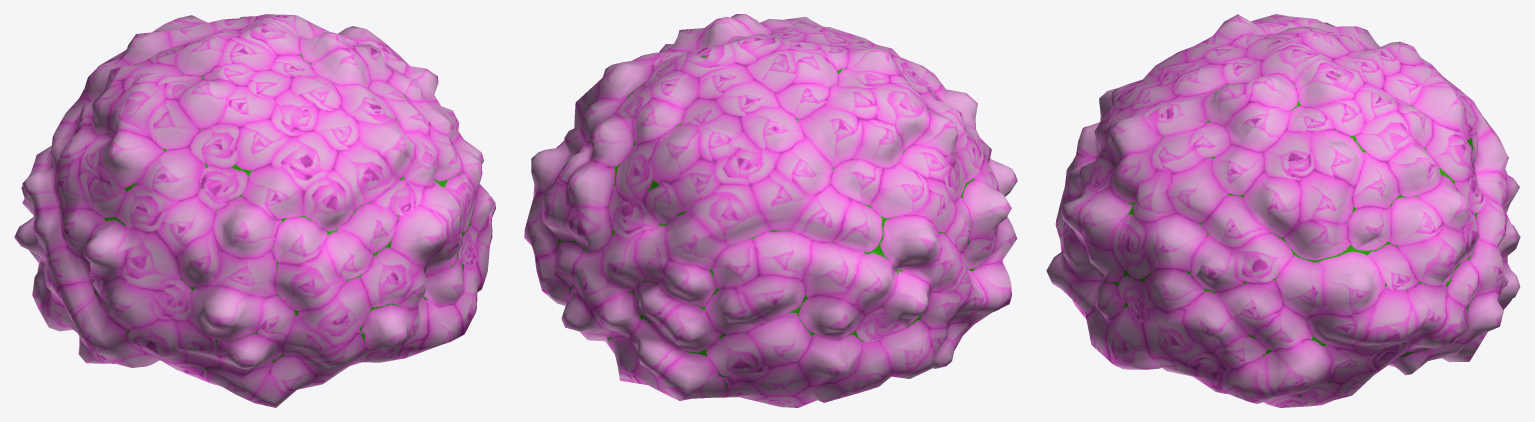
File: DecorFlowerTulips01.FBX
The picture shows the model from 3 angles, left to right: view 1: azimuth 30°, elevation 25°; view 2: azimuth 150°, elevation 25°; view 3: azimuth 270°, elevation 25°; orthographic projection.
Visible parts, largest first — view 1: DecorFlowerTulips01; view 2: DecorFlowerTulips01; view 3: DecorFlowerTulips01.
Boxes of the visible parts, x1=… form: DecorFlowerTulips01: x1=14, y1=14, x2=495, y2=407; DecorFlowerTulips01: x1=524, y1=14, x2=1017, y2=407; DecorFlowerTulips01: x1=1046, y1=14, x2=1520, y2=407.
Size of what is drawn, in the model's own units: 0.6698 by 0.4719 by 0.6682.
